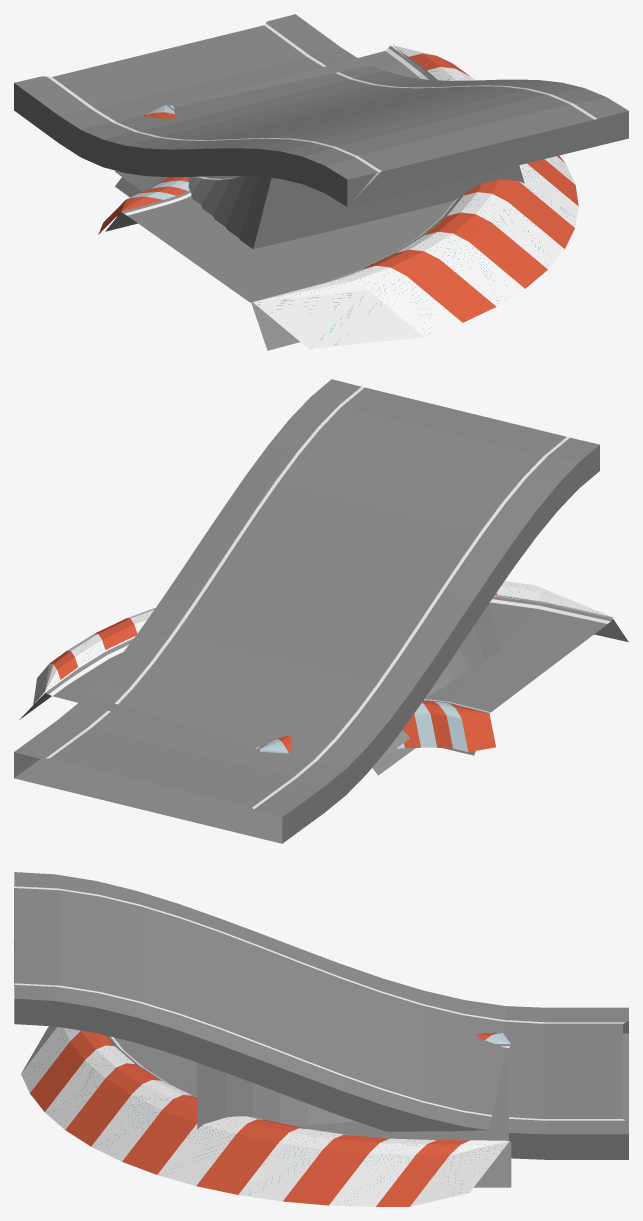
File: Roads.glb
3 views of the same model, one above another, from view 1: azimuth 30°, elevation 25°; view 2: azimuth 150°, elevation 25°; view 3: azimuth 270°, elevation 25° (orthographic). The views are drawn at different scales.
Visible parts, largest first — view 1: Road_Land, Road_Curve, RampRoad; view 2: Road_Land, Road_Curve, RampRoad; view 3: Road_Land, Road_Curve, RampRoad.
Part boxes in pixels (x1=…): Road_Land: x1=14, y1=14, x2=628, y2=206; Road_Curve: x1=98, y1=45, x2=578, y2=350; RampRoad: x1=115, y1=165, x2=524, y2=249; Road_Land: x1=14, y1=379, x2=599, y2=843; Road_Curve: x1=19, y1=581, x2=628, y2=755; RampRoad: x1=378, y1=604, x2=500, y2=761; Road_Land: x1=14, y1=872, x2=628, y2=1159; Road_Curve: x1=21, y1=1026, x2=511, y2=1206; RampRoad: x1=197, y1=1062, x2=354, y2=1128.
Bounding box in the file's own units: 15.85 × 6.1 × 20.52.
Materials: 1 (1 with a texture image).
